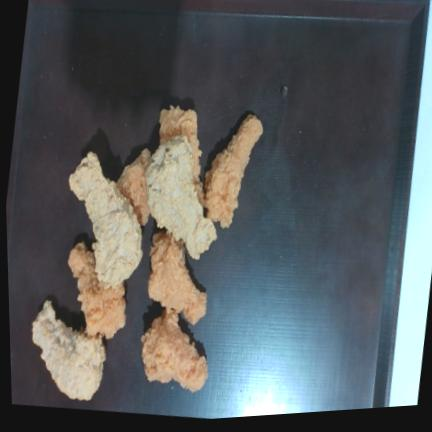chicken: (69, 152, 142, 287), (145, 134, 216, 258), (32, 300, 105, 400), (204, 114, 262, 227), (68, 242, 125, 338), (148, 231, 206, 324), (141, 310, 207, 391)
